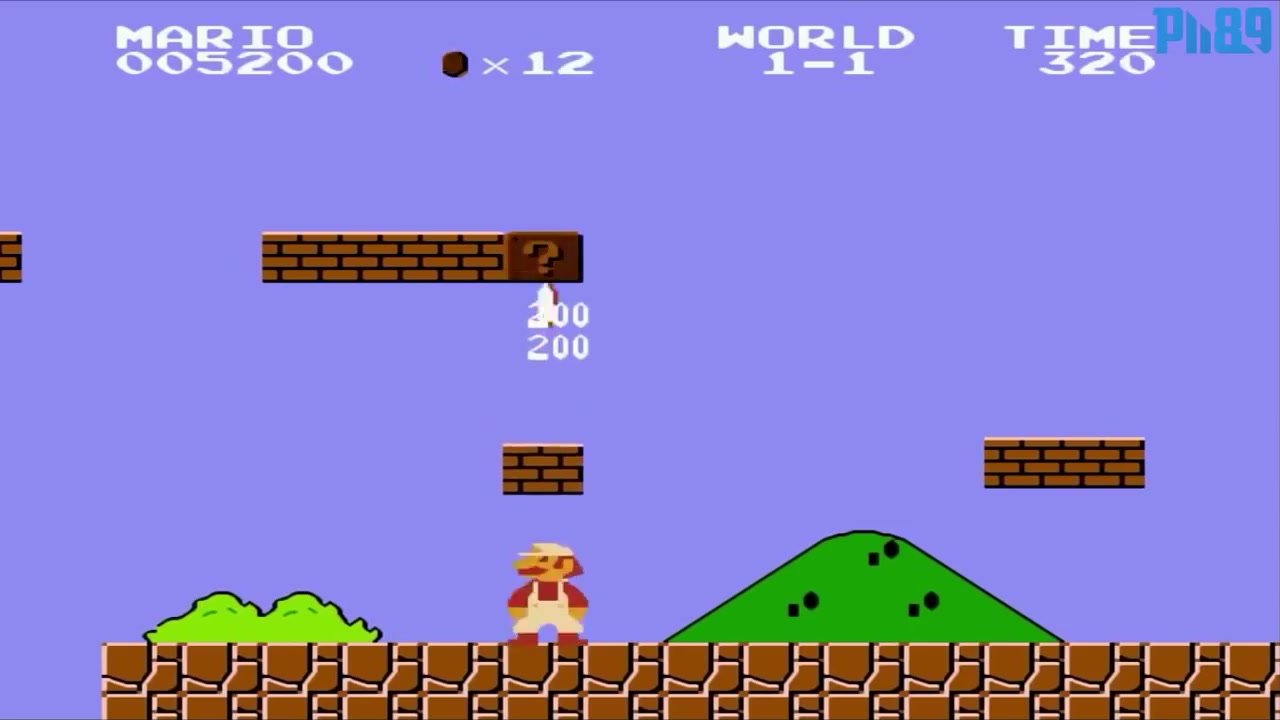mario: (493, 538, 596, 649)
